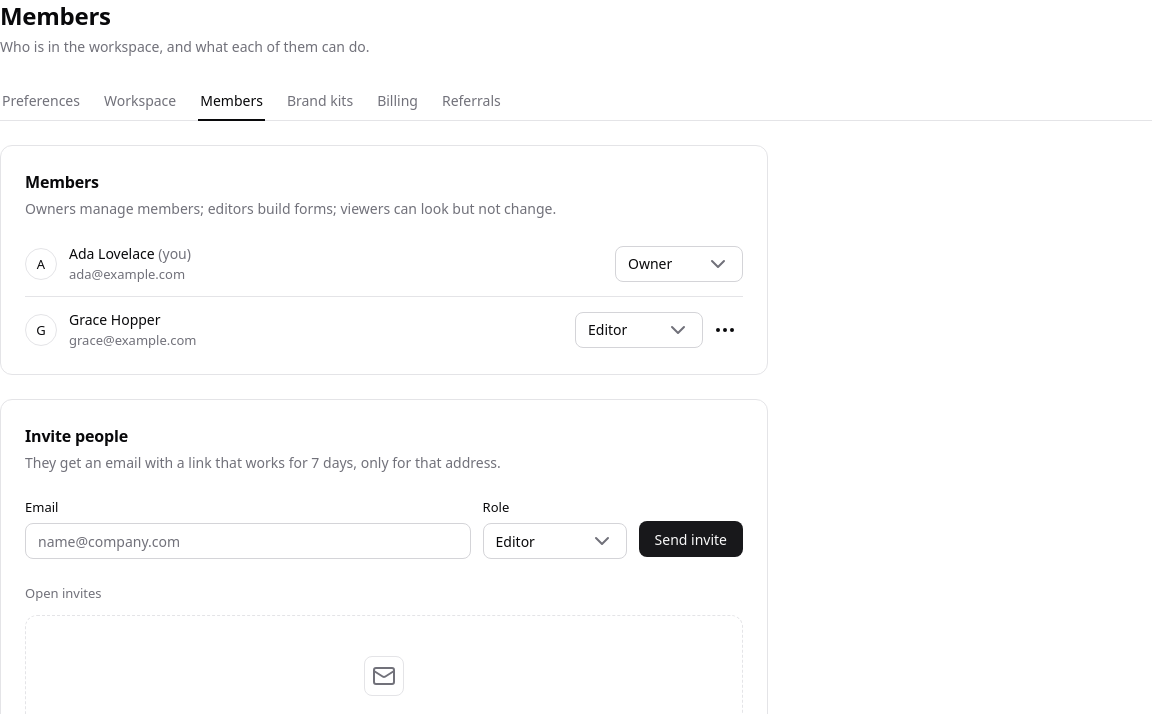
Test: MembersPage for owners › invites people, and sends or withdraws invites
Type "Lin@Example.com" into the field labelled "Email" at (248, 541), box 25,523 -> 471,559
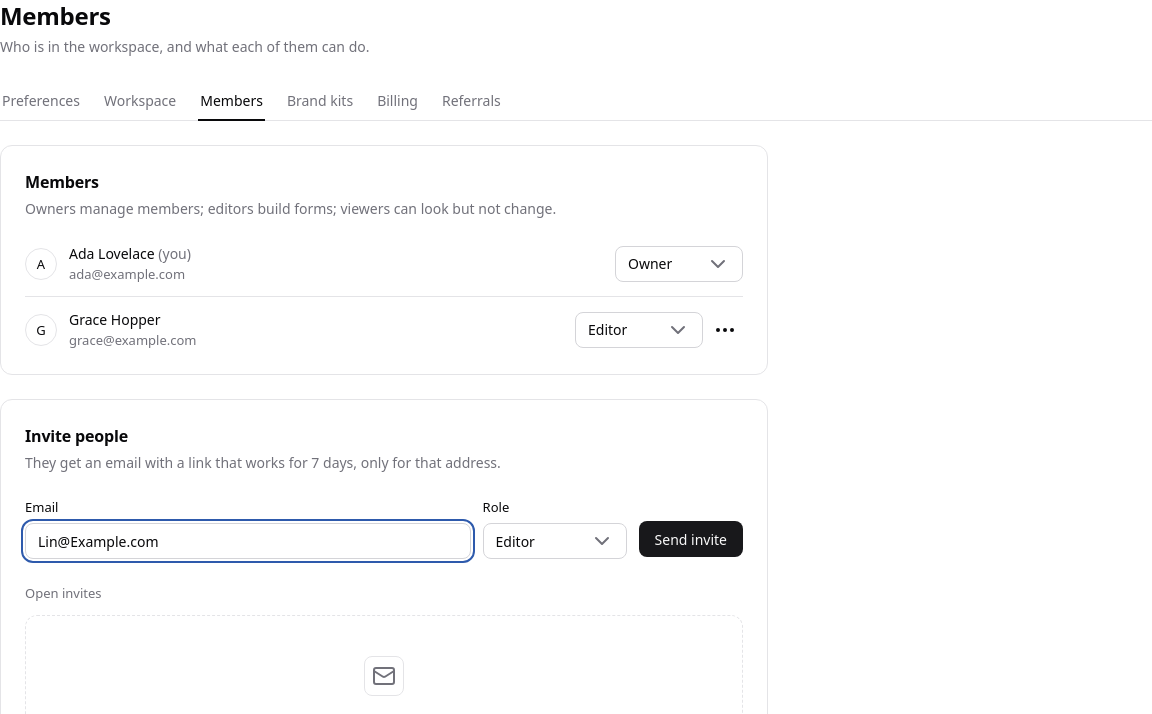
Click the button "Send invite" at (691, 539), box 639,521 -> 743,557
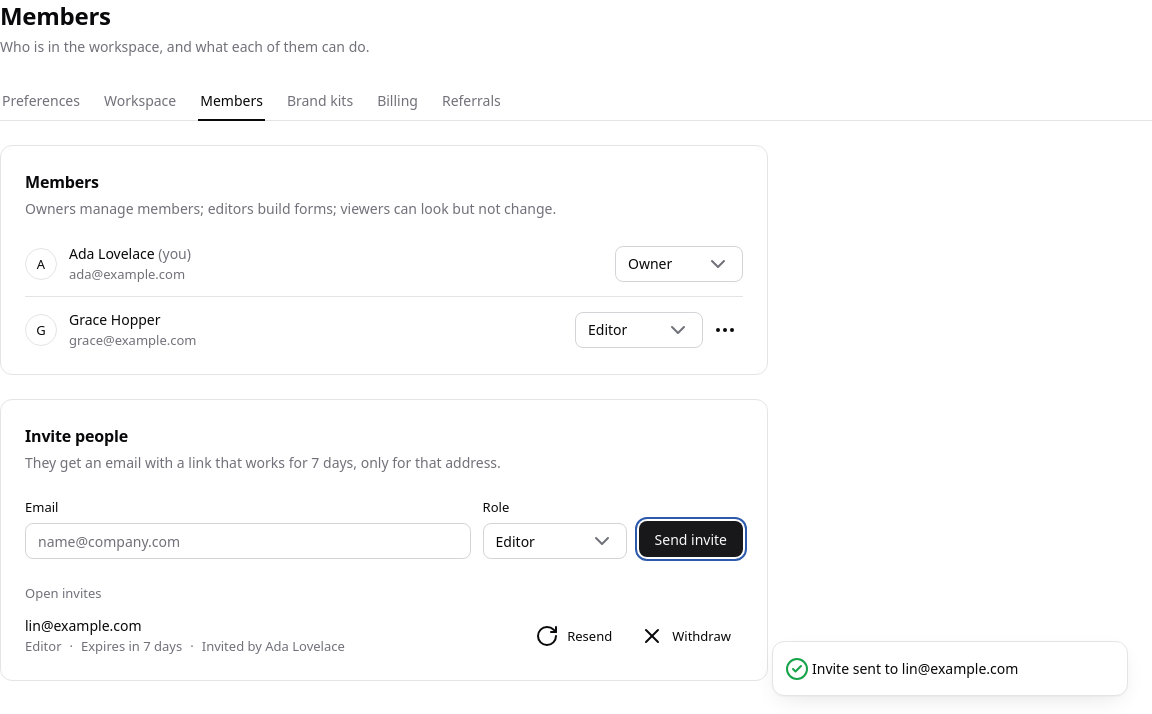
Expected: the text "Invite sent to lin@example.com" is shown, 812,658 -> 1018,679
Expected: the text "Expires in 7 days" is shown, 81,636 -> 182,656
Expected: the field labelled "Email" is empty, 25,523 -> 471,559
Click the button with aria-label "Withdraw the invite to lin@example.com" at (686, 636), box 628,620 -> 743,652
(page scrolled)
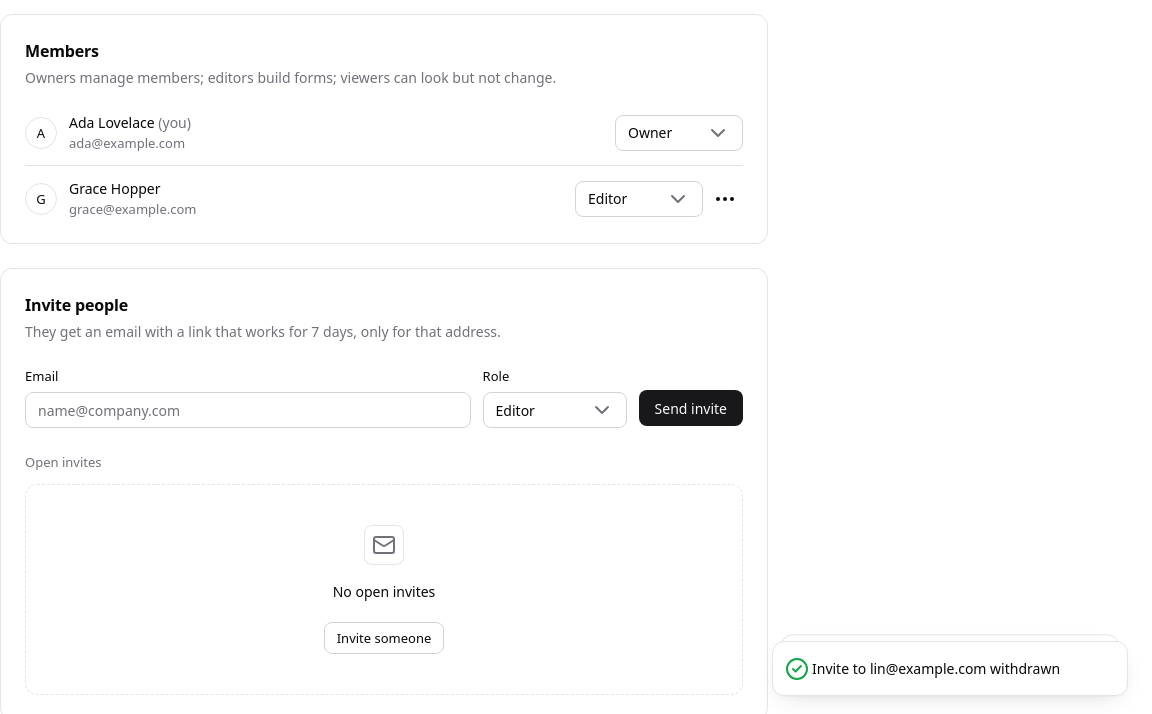
Expected: the text "Invite to lin@example.com withdrawn" is shown, 812,658 -> 1060,679
Expected: the text "No open invites" is shown, 333,581 -> 435,602
